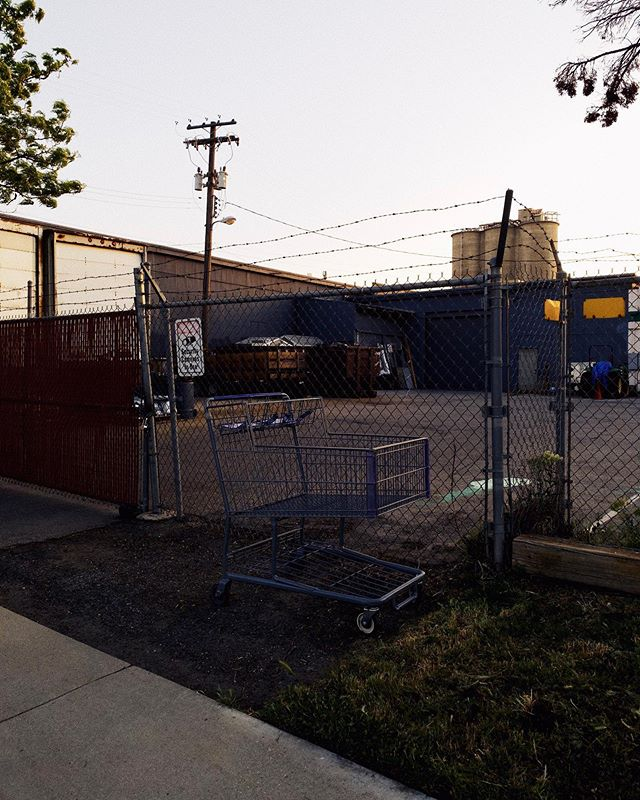building: (12, 219, 640, 400)
shopping cart: (202, 389, 441, 644)
sky: (69, 1, 572, 219)
